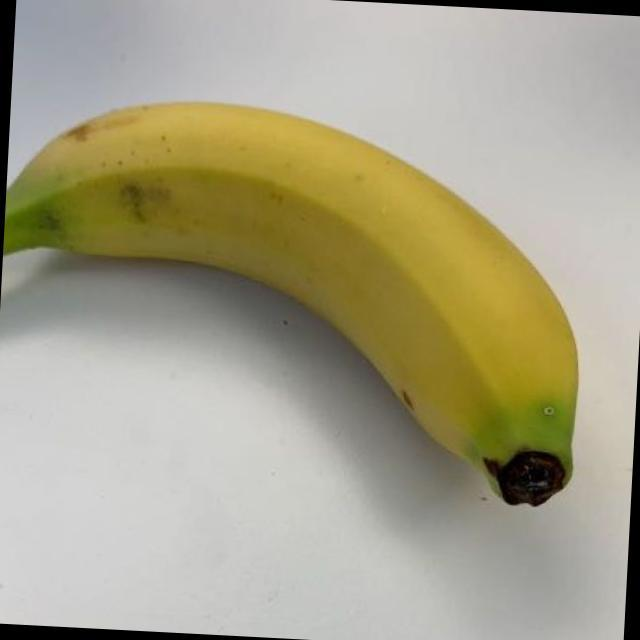Banana: (0, 75, 608, 526)
